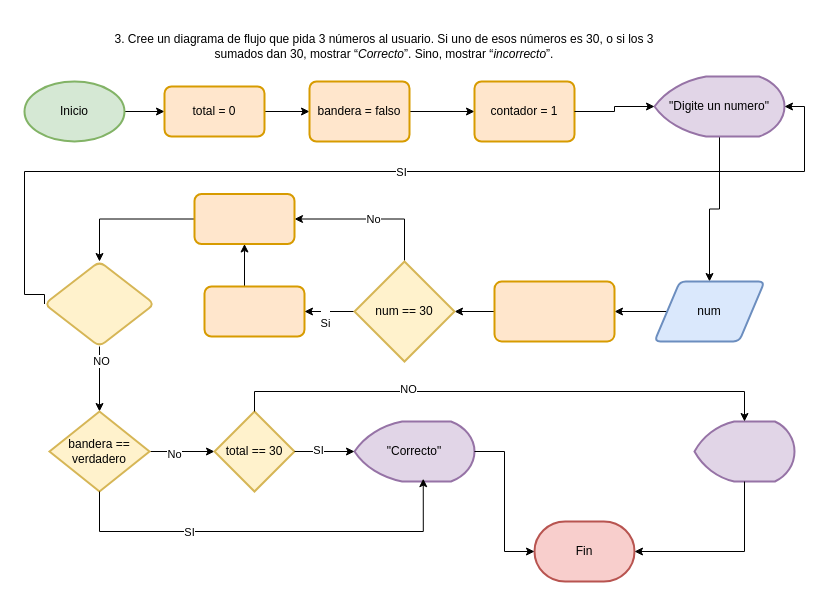
Image size: 830x599. Some labels were removed from this diagram. Each missing label, with the box of its shape:
"Incorrecto": (693, 420, 795, 482)
bandera = verdadero: (203, 285, 305, 337)
Contador <= 3: (43, 260, 155, 347)
contador = contador + 1: (193, 192, 295, 244)
total = total + num: (493, 280, 615, 342)
